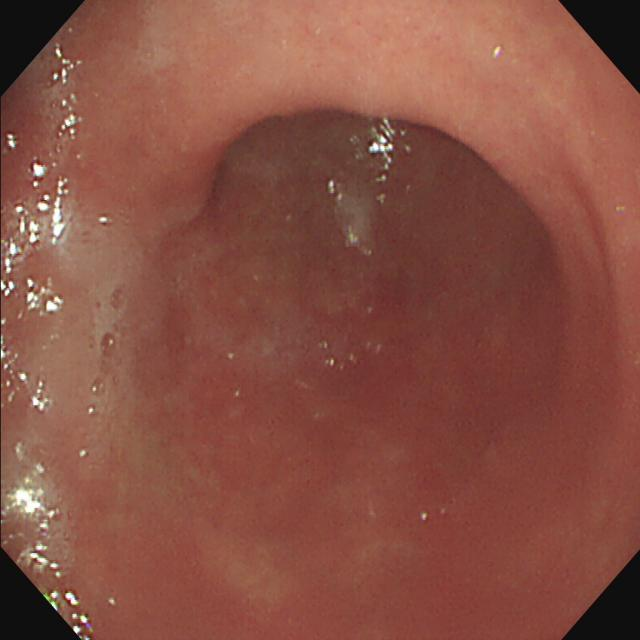J: (60, 94, 85, 141), (52, 44, 75, 85)
T: (19, 543, 62, 580)
U: (2, 203, 29, 298), (2, 462, 47, 517), (27, 278, 64, 316), (53, 177, 73, 247), (370, 119, 396, 156), (43, 592, 82, 613), (71, 613, 95, 640), (31, 157, 48, 189), (37, 193, 53, 214), (30, 219, 41, 246)
